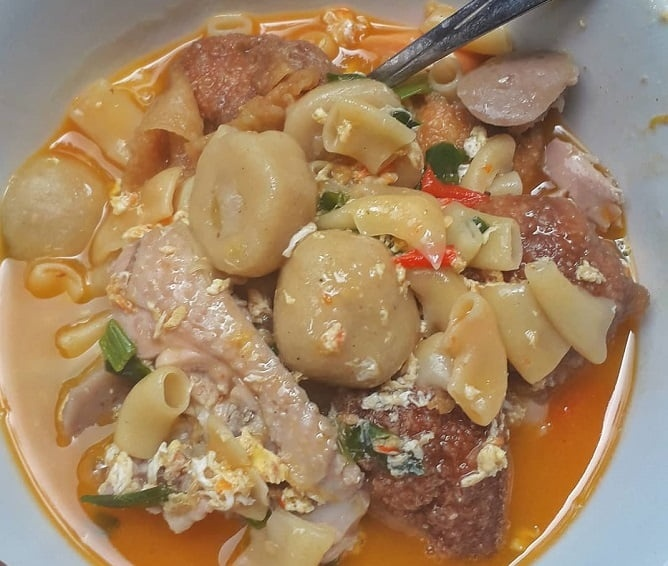seblak: (3, 8, 651, 566)
